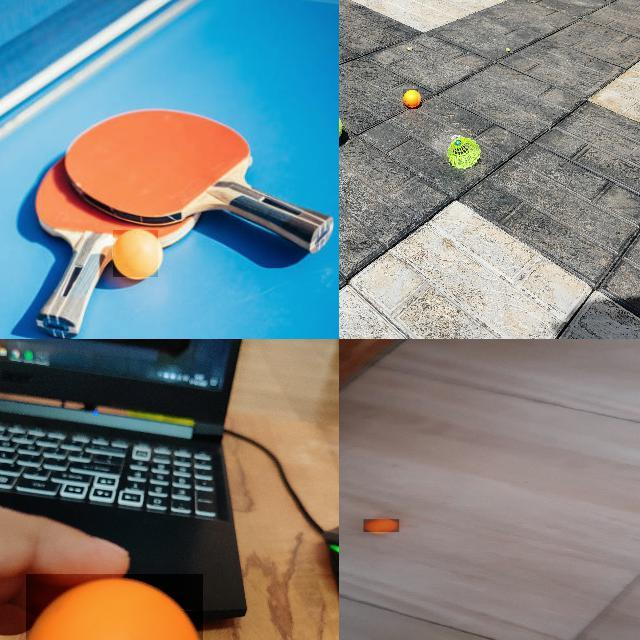ping-pong-ball: (26, 574, 205, 639), (112, 230, 160, 278), (364, 519, 401, 532), (403, 89, 419, 107)
